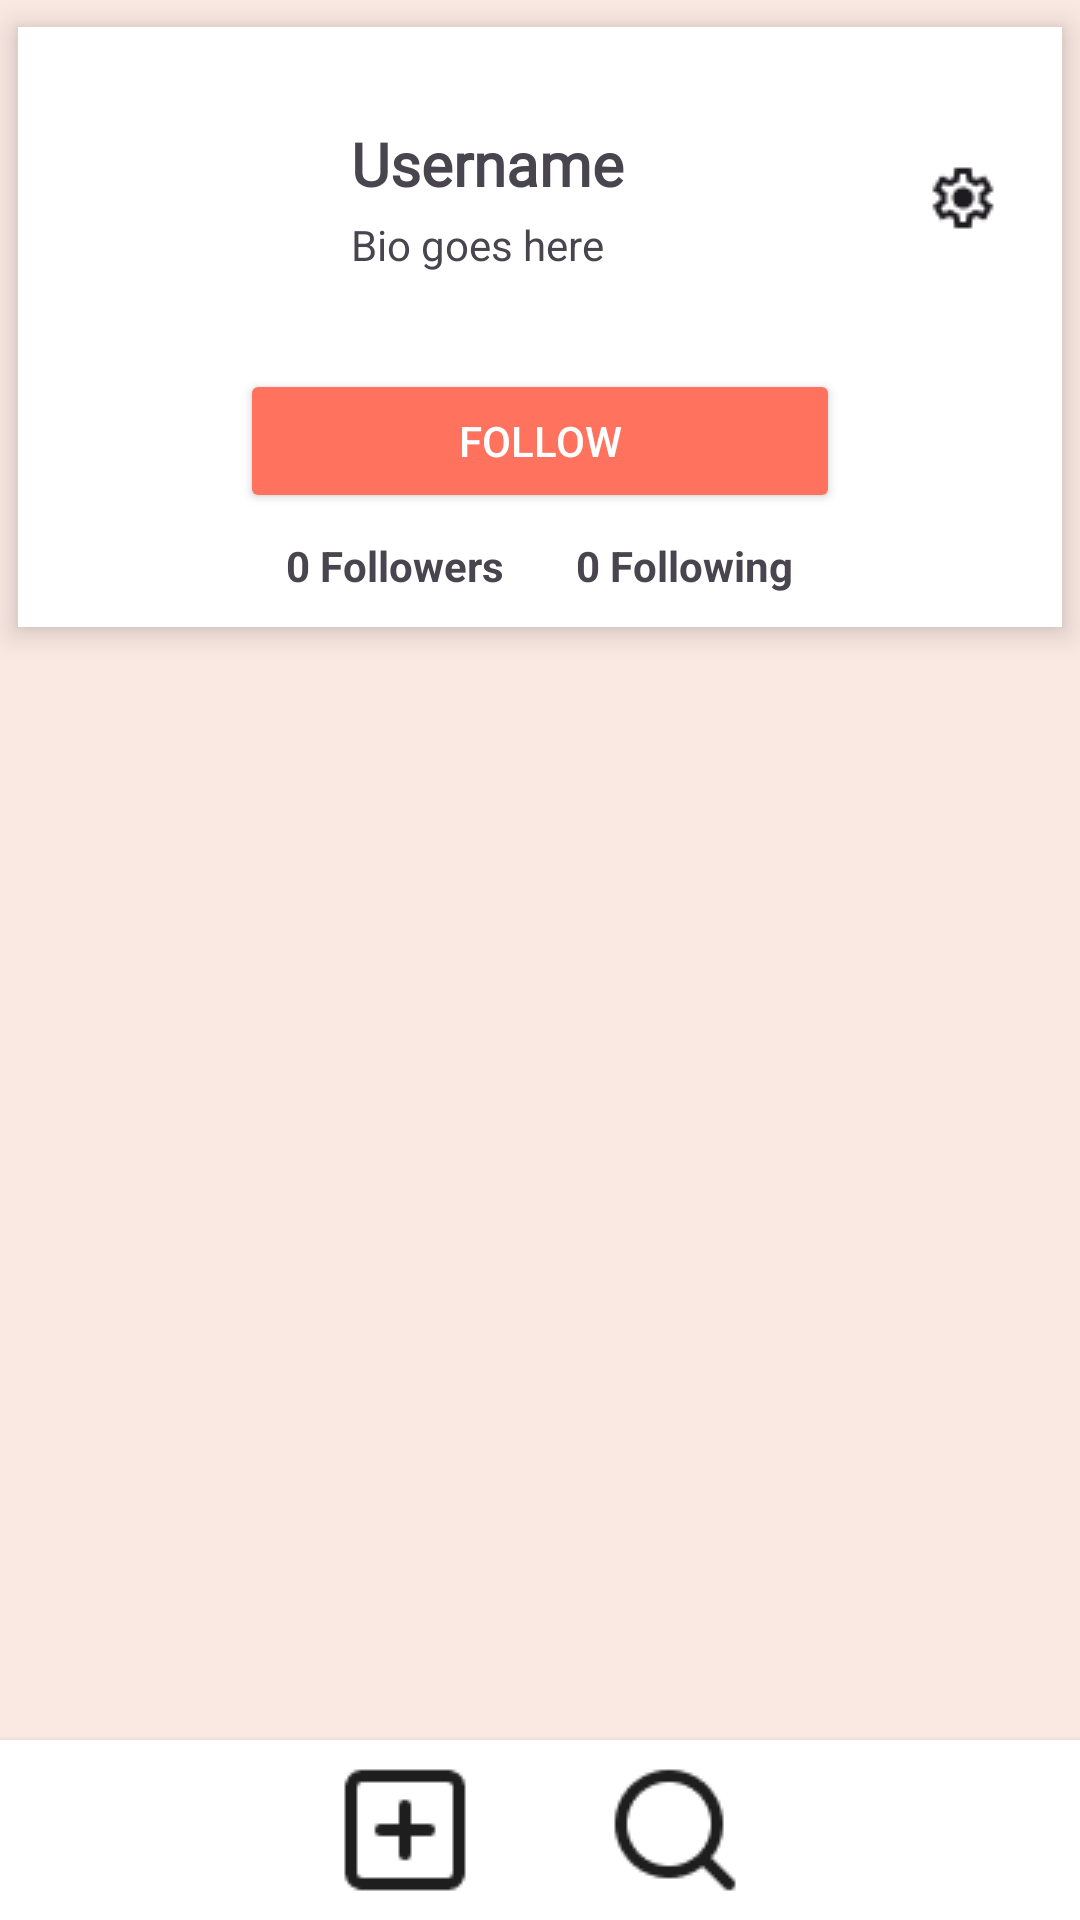

Screen size 1080px×1920px. Icon name, then its center in pixels as point (x, y):
Add Post: point (405, 1830)
Search: point (675, 1830)
Settings: point (963, 198)
